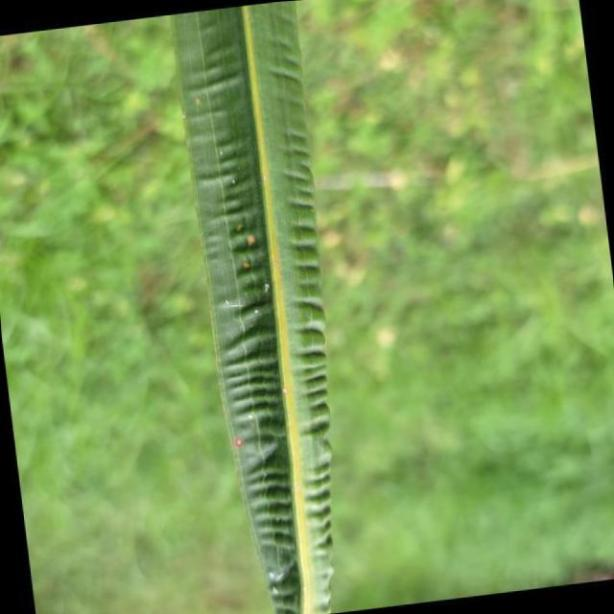Boron: (166, 0, 338, 614)
